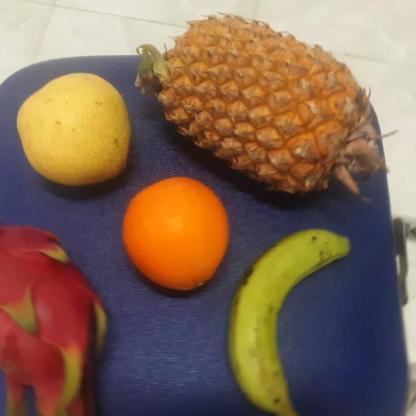banana: (226, 230, 345, 416)
orange: (117, 178, 230, 293)
pear: (12, 66, 131, 186)
pineapple: (141, 20, 369, 203)
pitaya: (0, 220, 111, 416)
